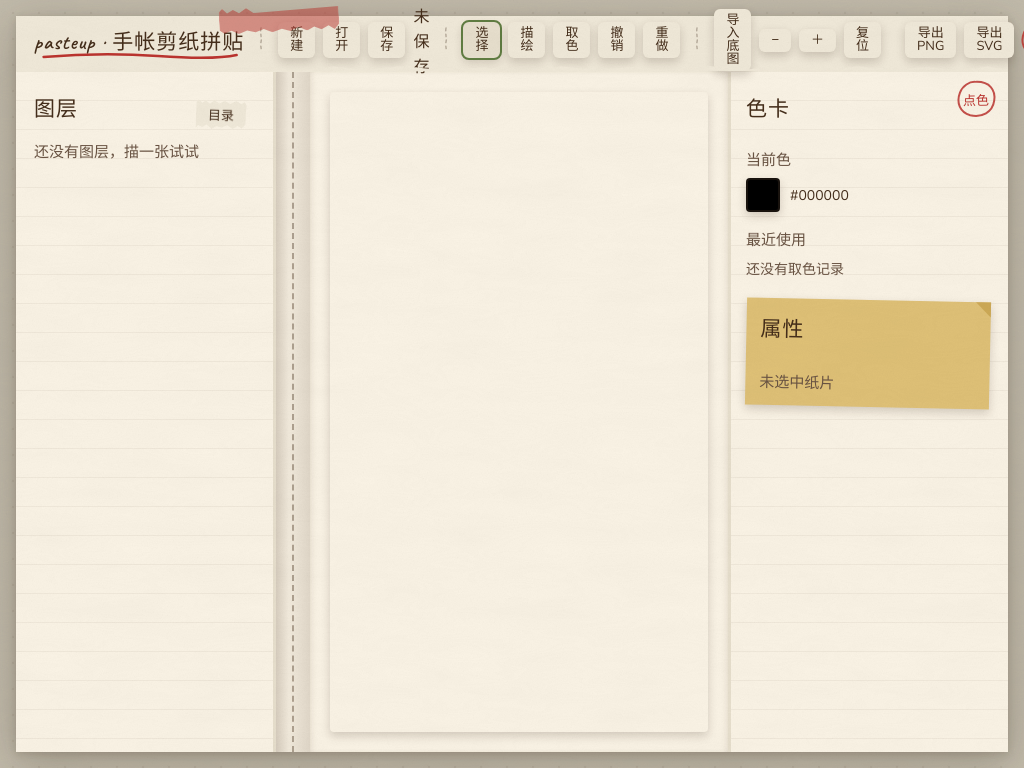
Scenario: App 集成（S6）— 屏幕取色 + MRU 色板 › 点击取色按钮：取色成功 → 写入选色 + MRU 显示色块 + 退出取色会话
Click the button with test id "pick-color": (572, 40) 553,22 -> 590,58
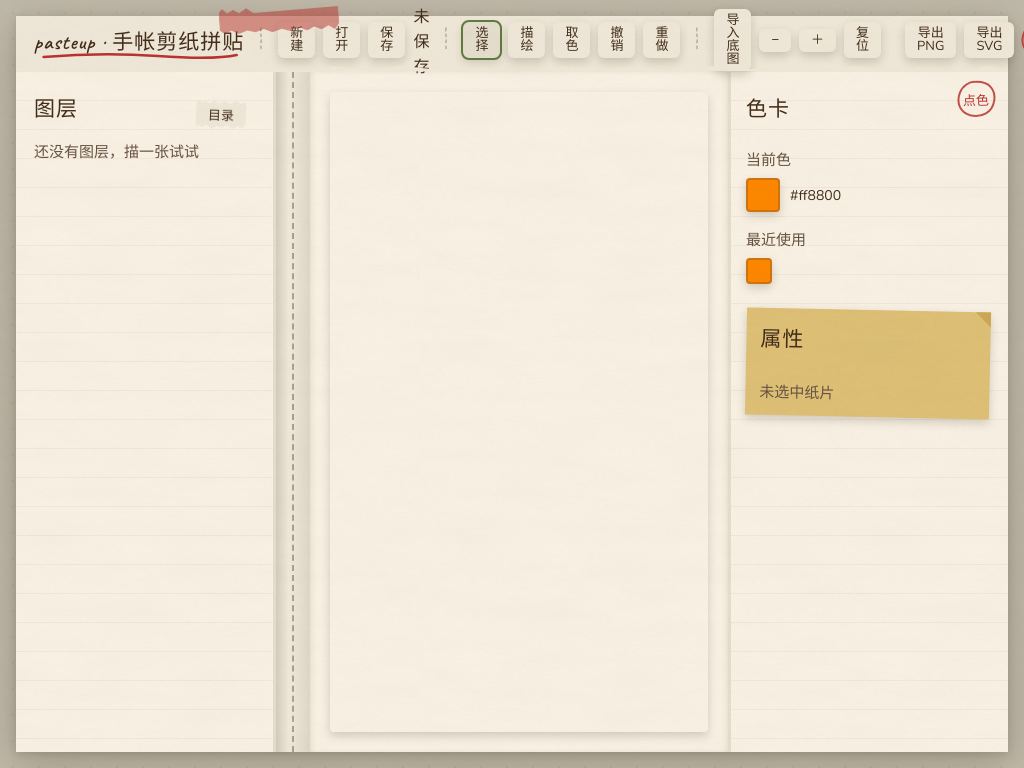
Expected: the button with test id "recent-color-ff8800" is shown, 746,258 -> 772,284
Expected: the text "#ff8800" is shown, 790,186 -> 841,204
Expected: the text with test id "recent-color-empty" is gone
